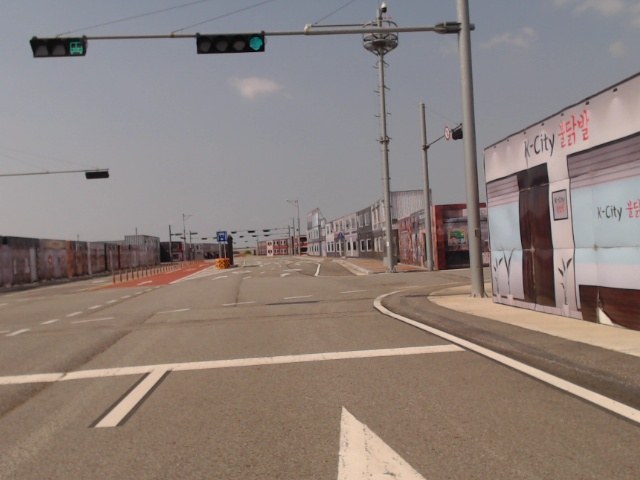straight_green_4: (197, 35, 264, 51)
